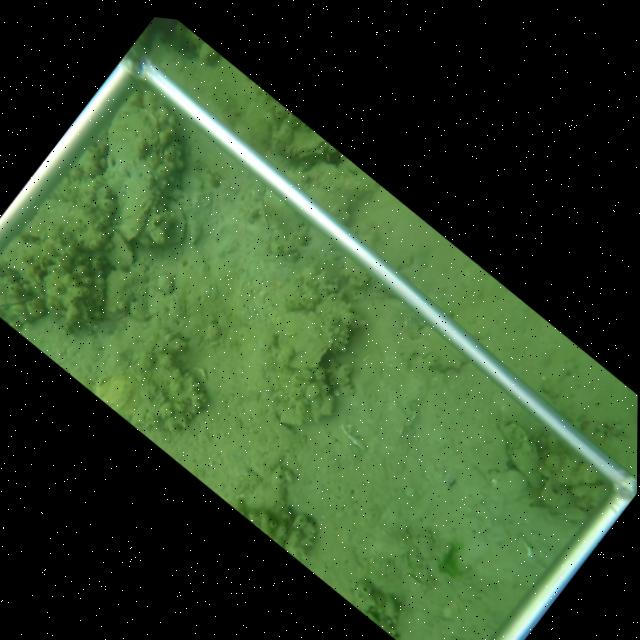Oyster-Closed: (273, 309, 334, 374), (101, 226, 136, 272), (165, 201, 192, 246), (290, 130, 330, 158)
Oyster-Indeterminate: (104, 100, 162, 241), (501, 419, 544, 490)
